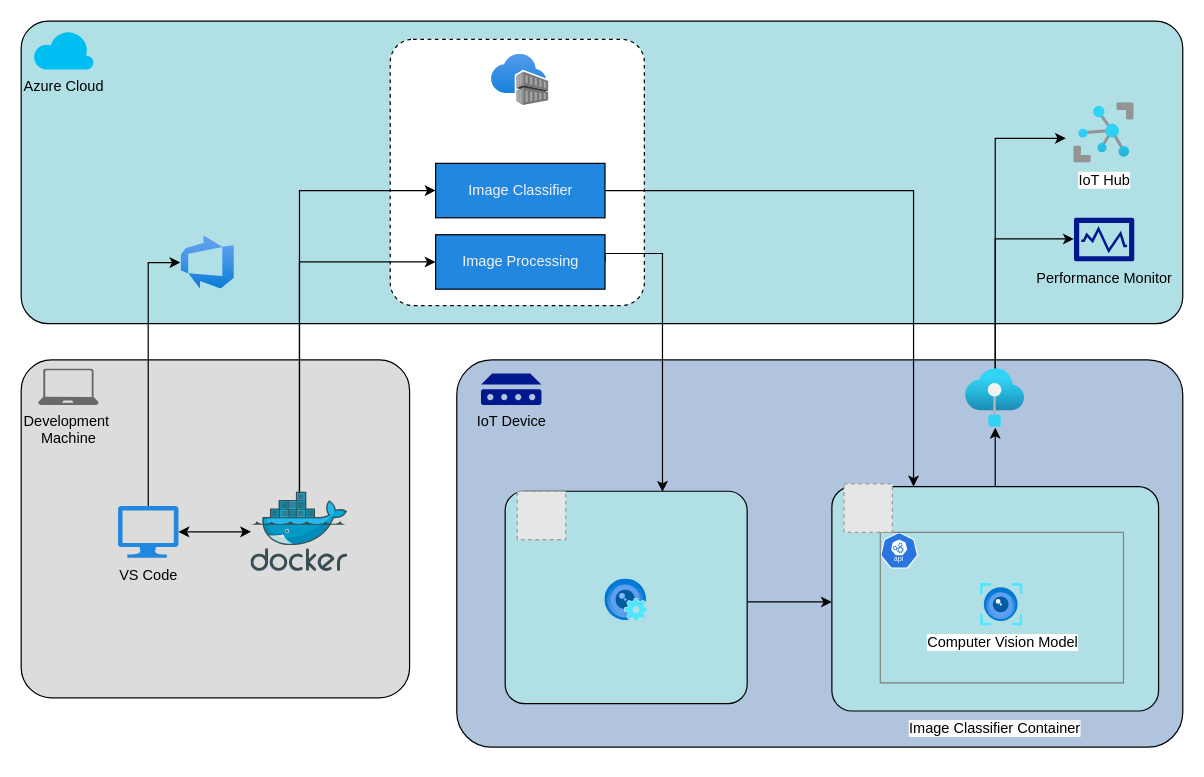
The diagram is 1204 pixels wide and 777 high, and some of its shapes have lost their labels. Grey dashed boxes stand in for pictures. The box of each missing label's shape, as (x1, y1, x2, y2) in pixels:
Azure Container Registry: (491, 54, 548, 105)
Dev Ops: (181, 235, 234, 289)
Flask API: (879, 531, 1123, 683)
Image Processing Container: (504, 490, 747, 704)
Iot Edge: (965, 368, 1024, 427)
